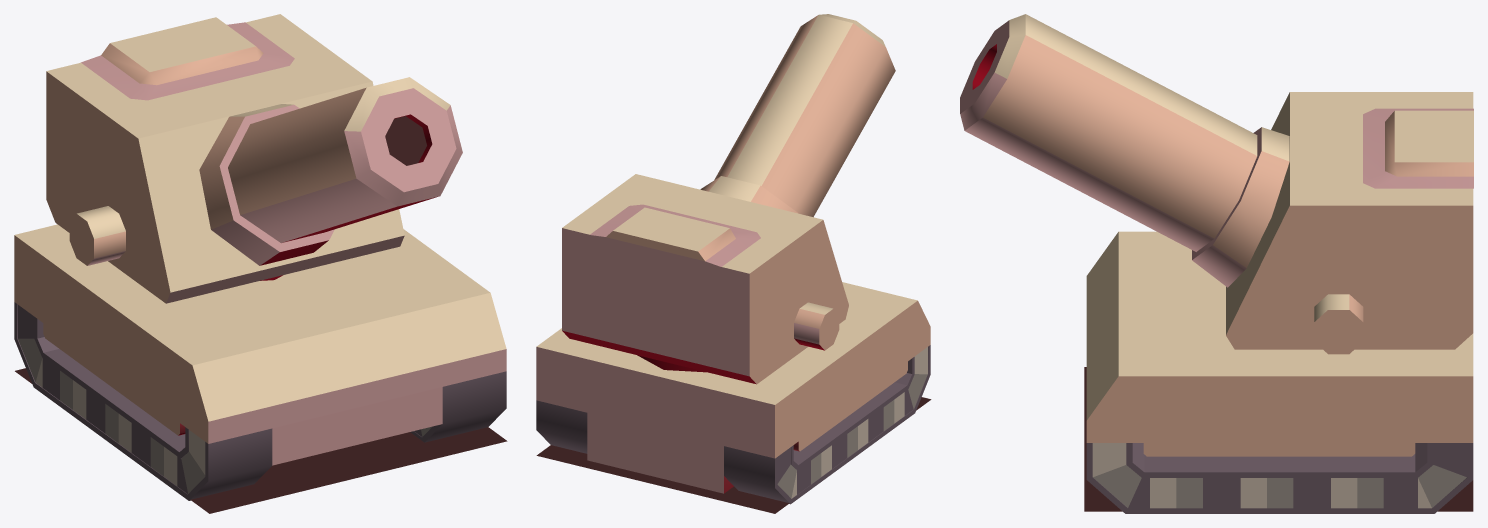
Rendered from ArtillertyMesh.WhiteNova.glb.
The picture shows the model from 3 angles, left to right: view 1: azimuth 30°, elevation 25°; view 2: azimuth 150°, elevation 25°; view 3: azimuth 270°, elevation 25°; orthographic projection. The views are drawn at different scales.
Parts seen in each view (by area): view 1: ArtillertyMesh.WhiteNova; view 2: ArtillertyMesh.WhiteNova; view 3: ArtillertyMesh.WhiteNova.
Boxes of the visible parts, x1,y1,x2,y2 form: ArtillertyMesh.WhiteNova: (14,14,507,513); ArtillertyMesh.WhiteNova: (536,14,931,513); ArtillertyMesh.WhiteNova: (960,14,1473,513).
Size of the model in its own units: 1.4 by 1.88 by 2.1.
Materials: 1 (1 with a texture image).
